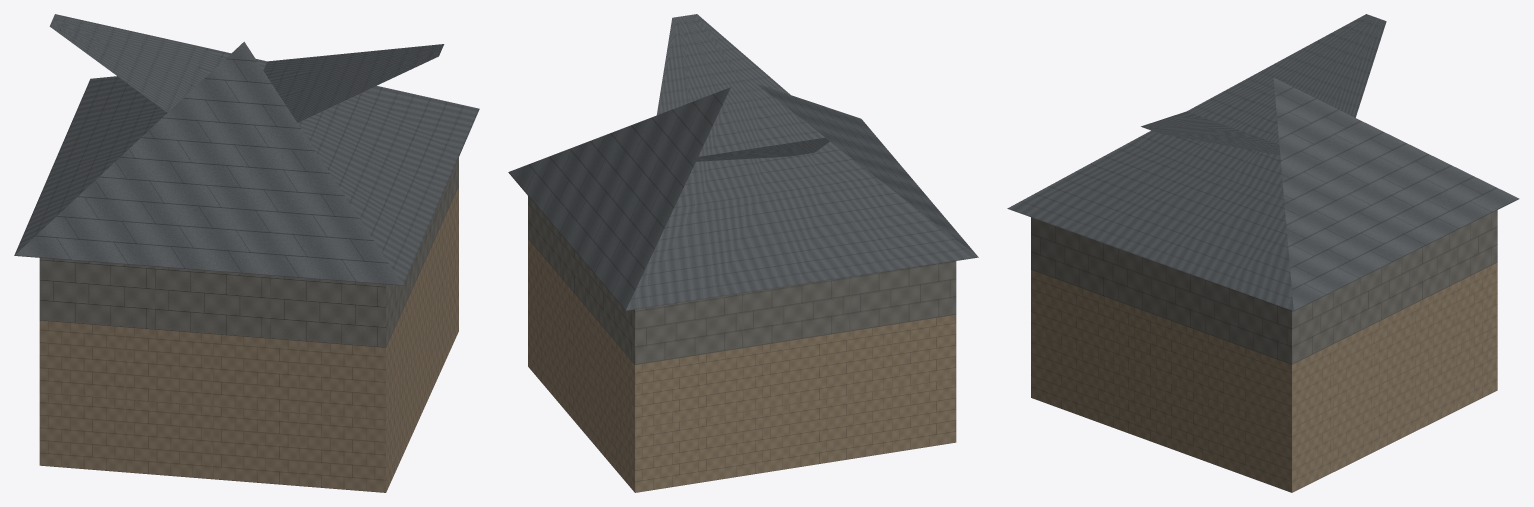
The model's file is bld_c-5_10_569.gltf.
3 renders of one model, left to right at view 1: azimuth 30°, elevation 25°; view 2: azimuth 150°, elevation 25°; view 3: azimuth 270°, elevation 25°, orthographic. The views are drawn at different scales.
Visible parts, largest first — view 1: bld_c-5_10_569; view 2: bld_c-5_10_569; view 3: bld_c-5_10_569.
Boxes of the visible parts, box(x1,y1,x2,y2) form: bld_c-5_10_569: box(14, 14, 479, 492); bld_c-5_10_569: box(508, 14, 978, 492); bld_c-5_10_569: box(1007, 14, 1519, 492).
Bounding box in the file's own units: 16.22 × 11.26 × 16.32.
3 materials, 3 textured.
